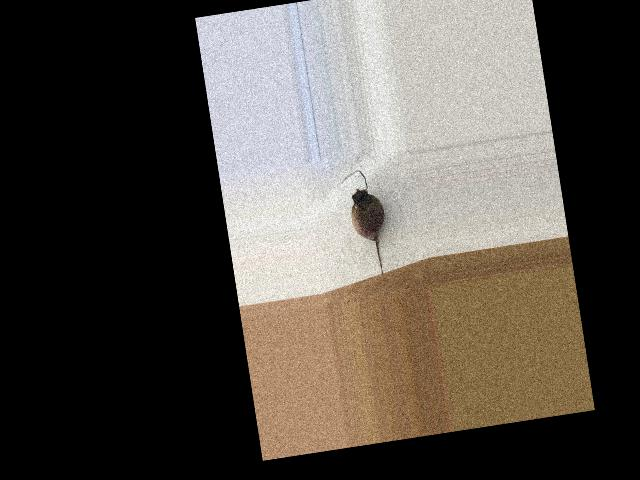beet: (340, 168, 393, 280)
